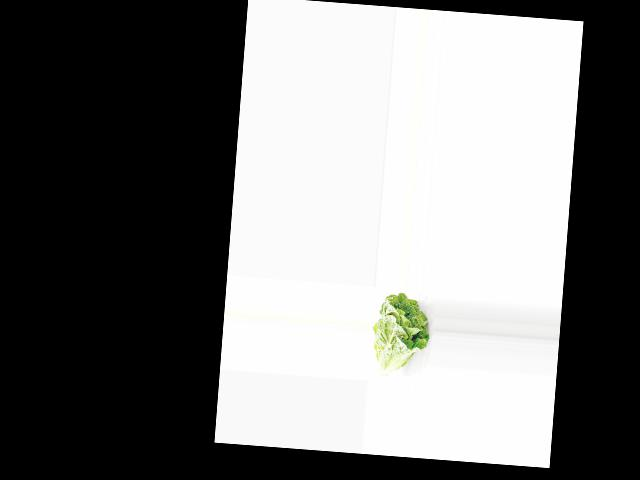lettuce: (368, 291, 433, 377)
